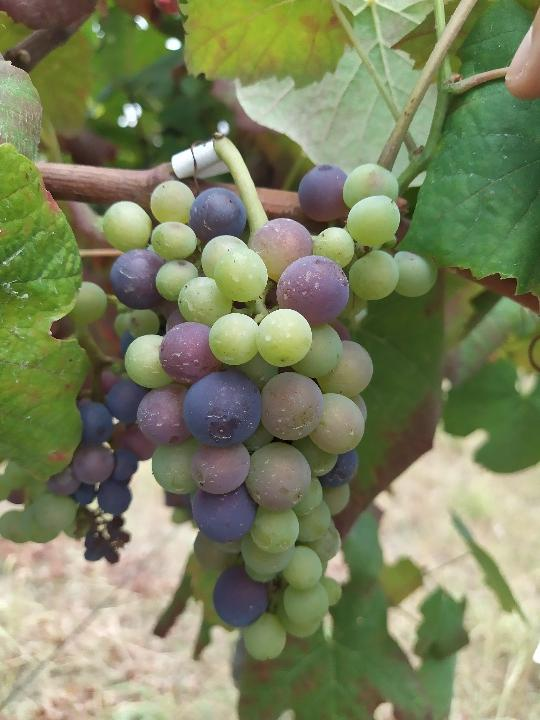grape: (98, 159, 441, 666)
